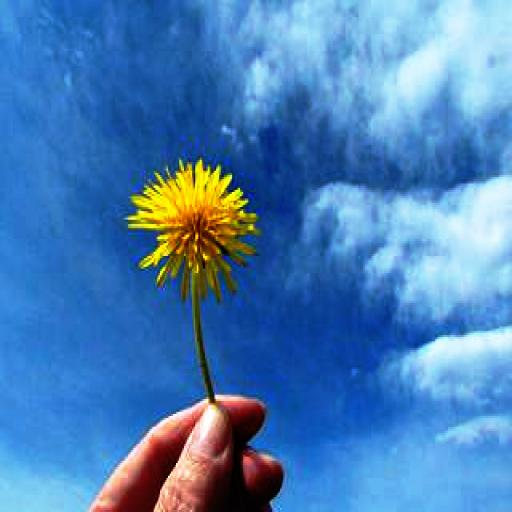dandelion: (132, 154, 254, 292)
